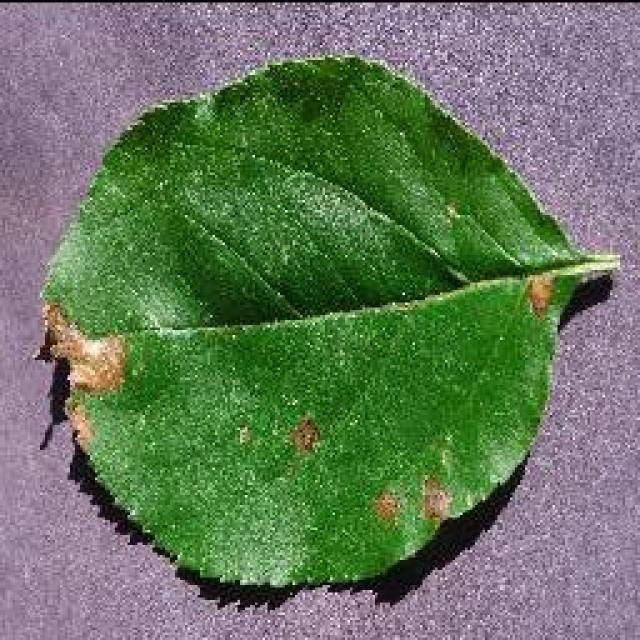apple healthy: (32, 50, 618, 600)
